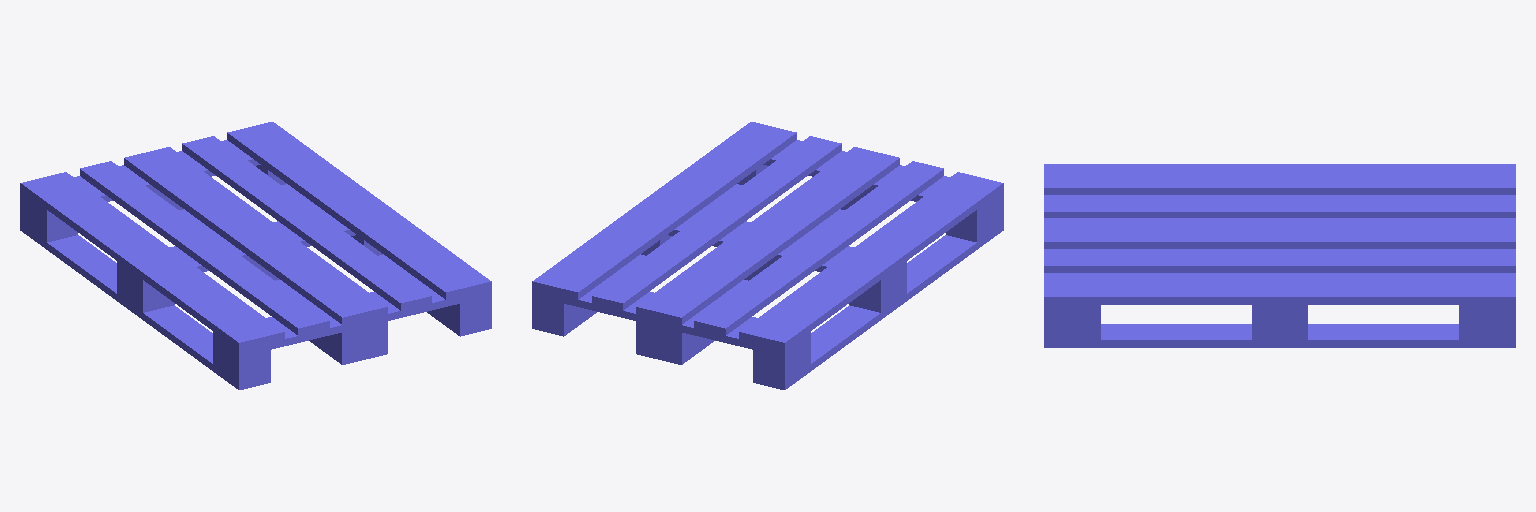
robot.urdf — pallet2_gazebo:
<?xml version="1.0" encoding="utf-8"?>
<!-- This URDF was automatically created by SolidWorks to URDF Exporter! Originally created by [author] ([email redacted]) 
     Commit Version: 1.5.1-0-g916b5db  Build Version: 1.5.7152.31018
     For more information, please see http://wiki.ros.org/sw_urdf_exporter -->
<robot name="pallet2_gazebo">

	<link name="world" />

	<joint name="fixed2" type="fixed">
		<parent link="world"/>
		<child link="pallet_2"/>
		<origin xyz="0.6 -1.15 0.19" rpy="0.0 0.0 0"/>
	</joint>

	<link name="pallet_2">
		<inertial>
			<!-- <origin xyz="1.1327E-16 -3.3286E-17 0.66019" rpy="0 0 0" /> -->
			<origin xyz="0.60 0.40 0.08" rpy="0 0 0" />
			<mass value="40" />
			<inertia ixx="7.5972" ixy="0" ixz="0" iyy="0.99673" iyz="0" izz="8.1168" />
		</inertial>
		<visual>
			<origin xyz="0.0 0.0 0.0" rpy="0 0 1.570796327" />
			<geometry>
				<mesh filename="package://demo_world/meshes/pallet.stl" />
			</geometry>
			<material name="white">
				<color rgba="0.5 0.5 1 1" />
			</material>
		</visual>
		<collision>
          <origin xyz="0.0 0.0 0.0" rpy="0.0 0.0 1.570796327"/>
          <geometry>
             <mesh filename="package://demo_world/meshes/collision_pallet.stl" />
          </geometry>
        </collision> 
	</link>

</robot>

--- Facts derived from the render (not from the file) ---
3 views of the same robot in one strip: view 1: azimuth 30°, elevation 25°; view 2: azimuth 150°, elevation 25°; view 3: azimuth 270°, elevation 25° (orthographic).
Model pallet2_gazebo with 2 links and 1 joints (1 fixed), rooted at world, posed every joint at zero.
Links seen in each view (by area): view 1: pallet_2; view 2: pallet_2; view 3: pallet_2.
Boxes of the visible links, bbox=[...] form: pallet_2: bbox=[20, 122, 491, 389]; pallet_2: bbox=[532, 122, 1003, 389]; pallet_2: bbox=[1044, 164, 1515, 347].
Bounding box of the posed robot: 0.8037 × 1.21 × 0.1447 m (x, y, z).
1 mesh visuals loaded from 1 distinct referenced files (1 binary STL).